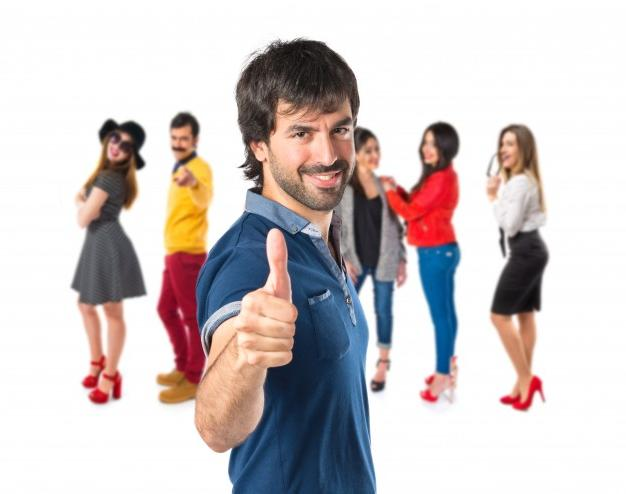thumbsup: (235, 228, 299, 366)
